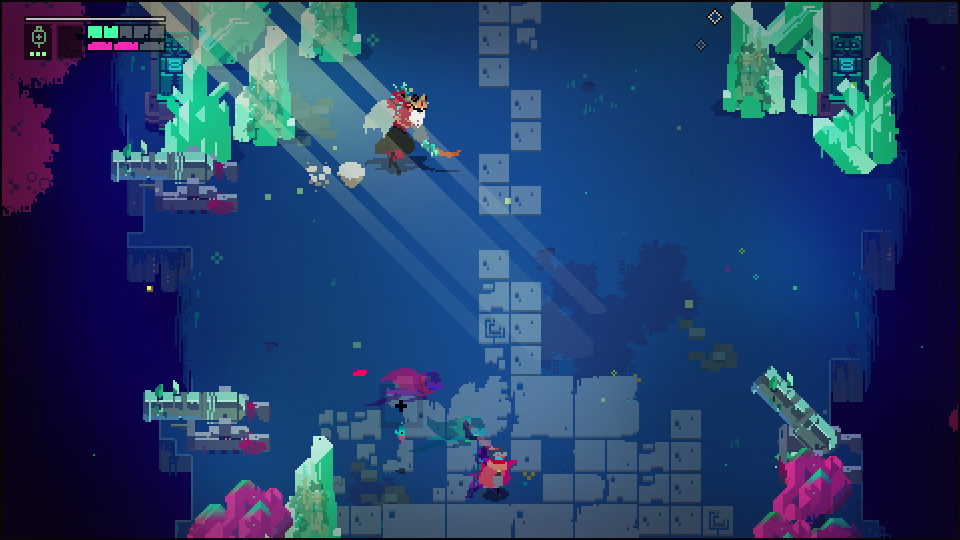hanged_man: (358, 78, 468, 176)
player: (472, 441, 512, 501)
